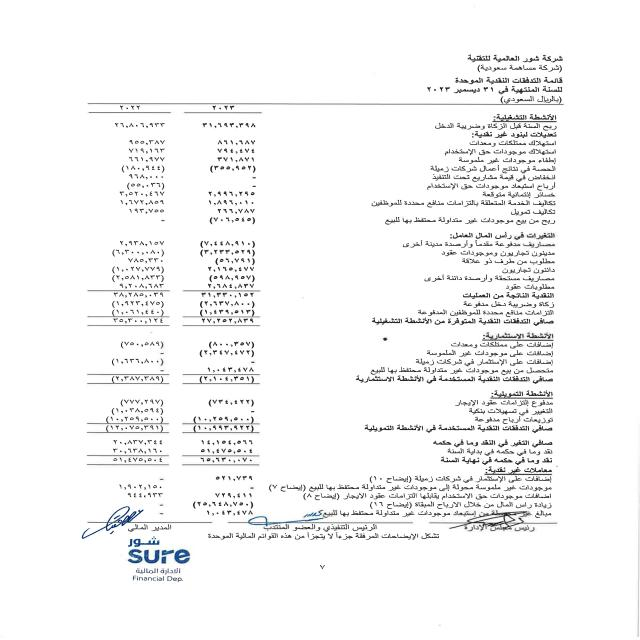financial_sheets: (447, 76, 565, 84)
table: (57, 100, 268, 523)
